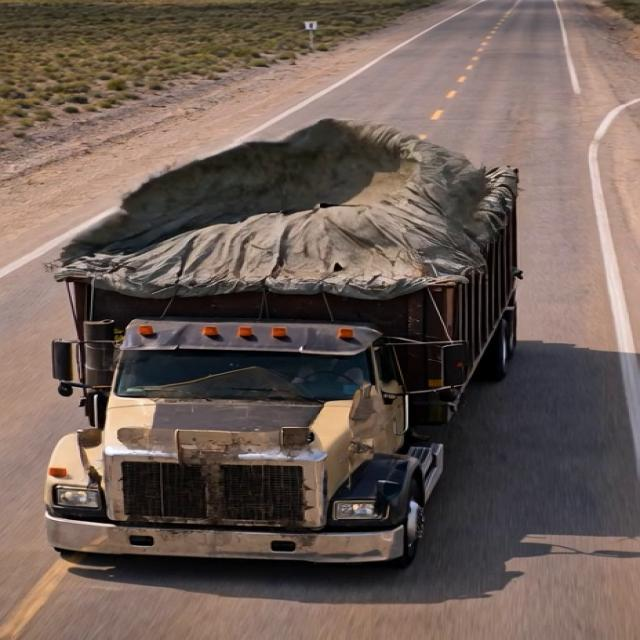trailer: (46, 114, 583, 290)
truck: (31, 74, 622, 571)
